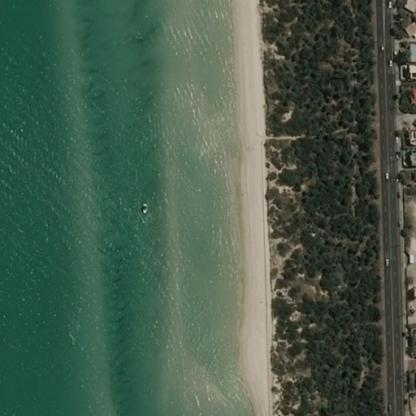ship: (136, 196, 152, 218)
